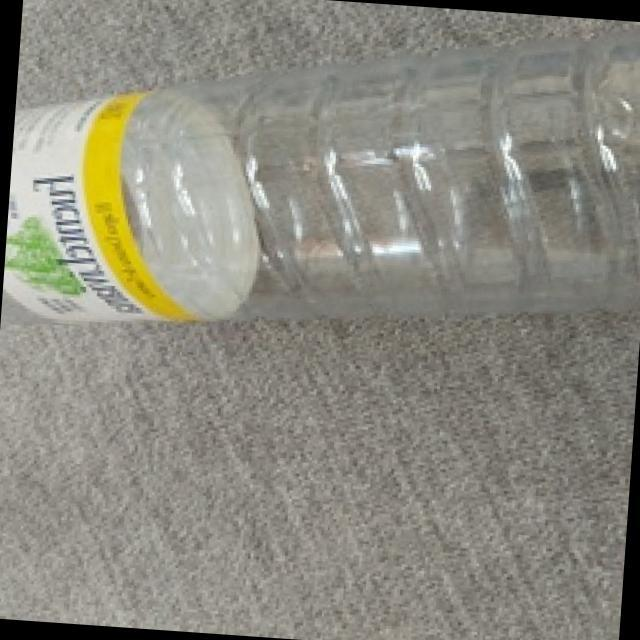good: (0, 63, 640, 359)
